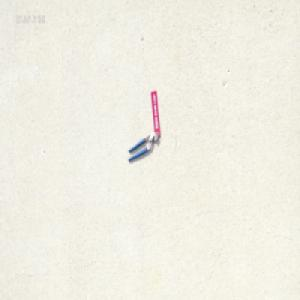Label: (150, 91, 160, 140)
Pliers: (127, 132, 158, 163)
